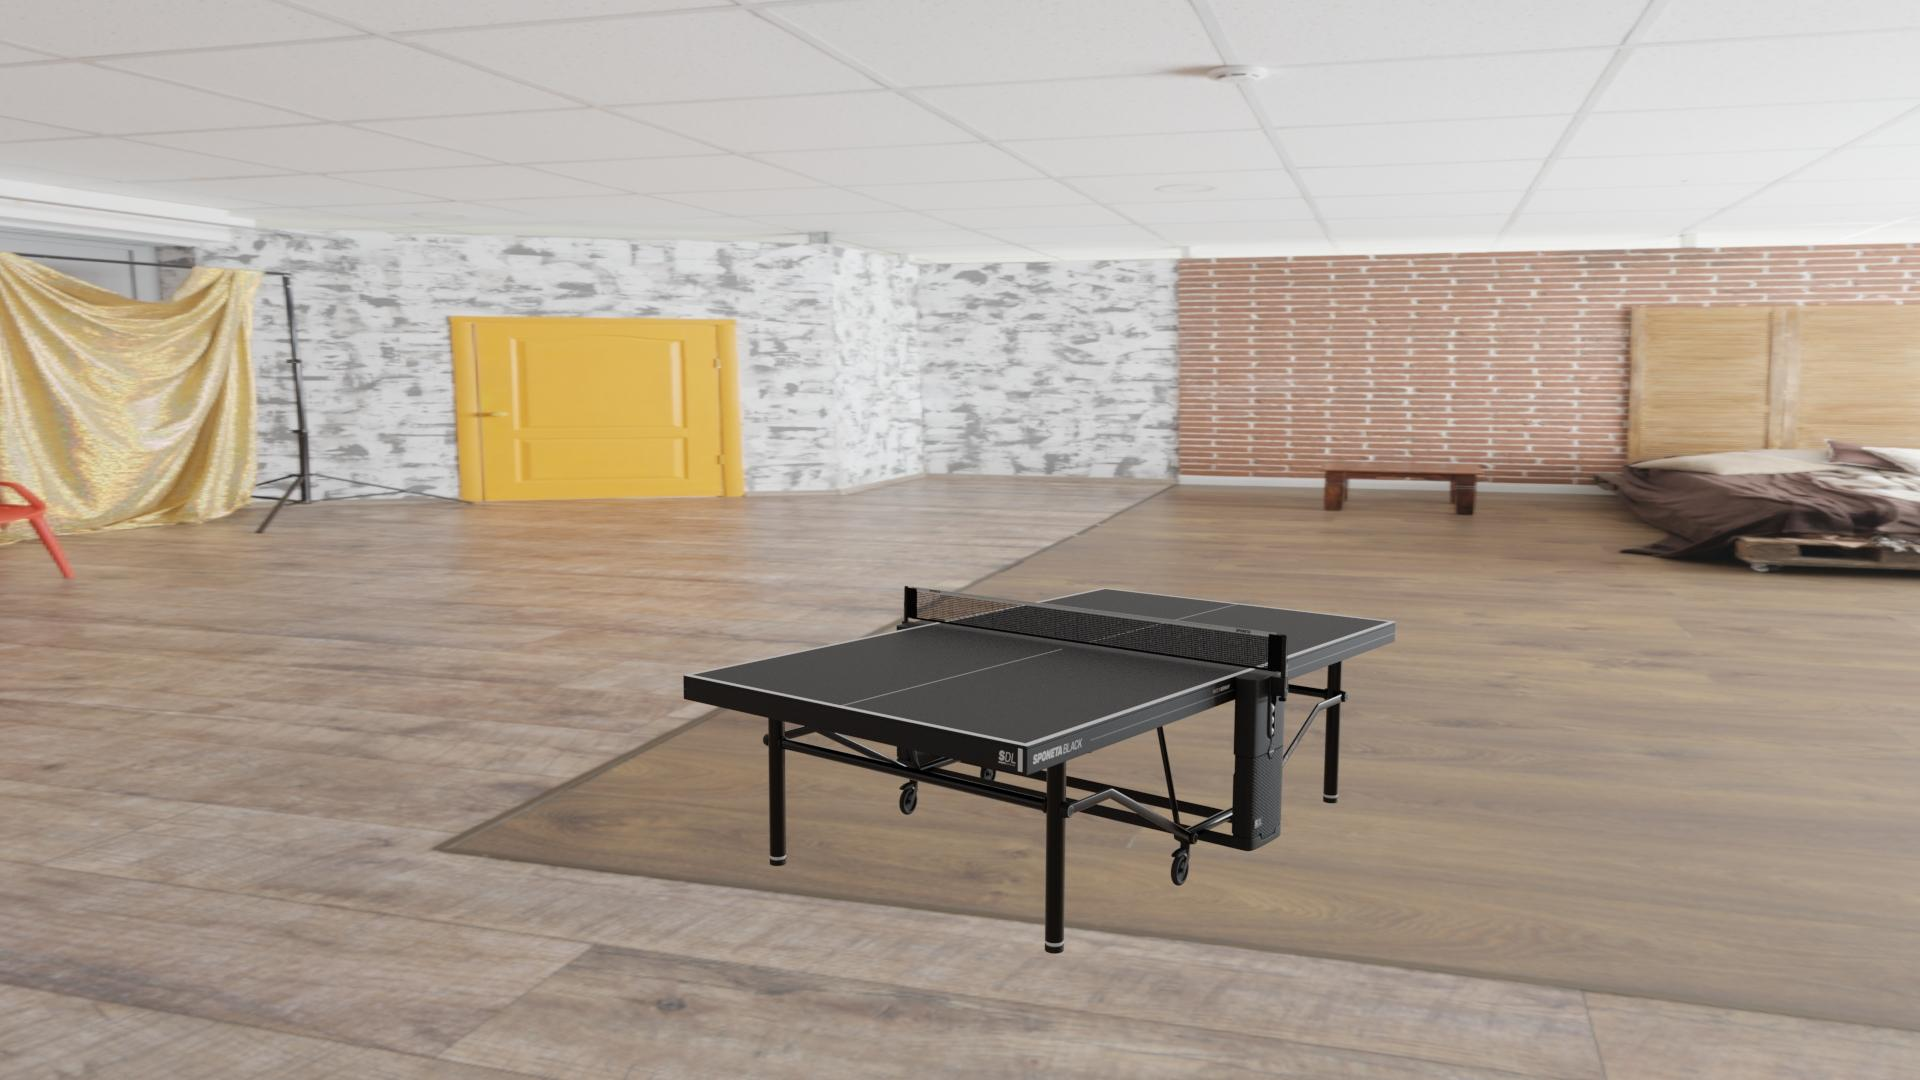table: (691, 588, 1390, 744)
